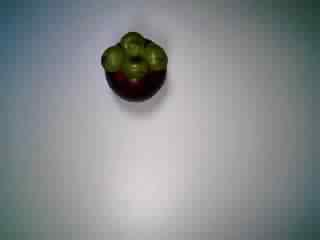mangosteen: (96, 28, 170, 102)
